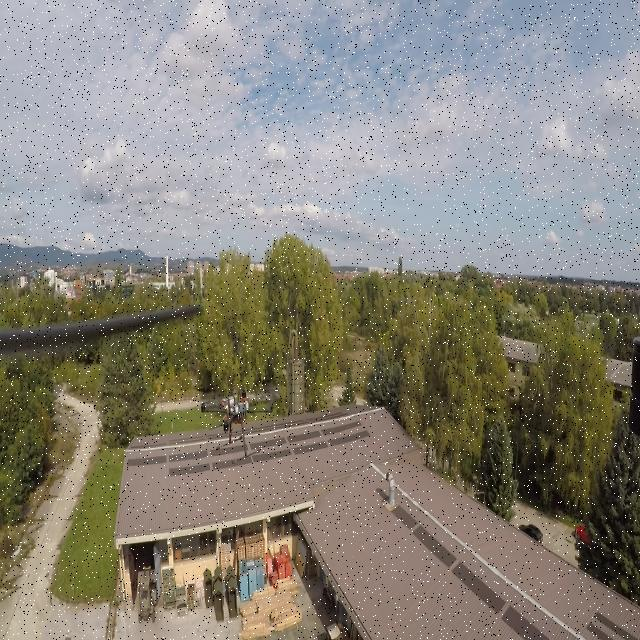UAV: (200, 386, 276, 464)
